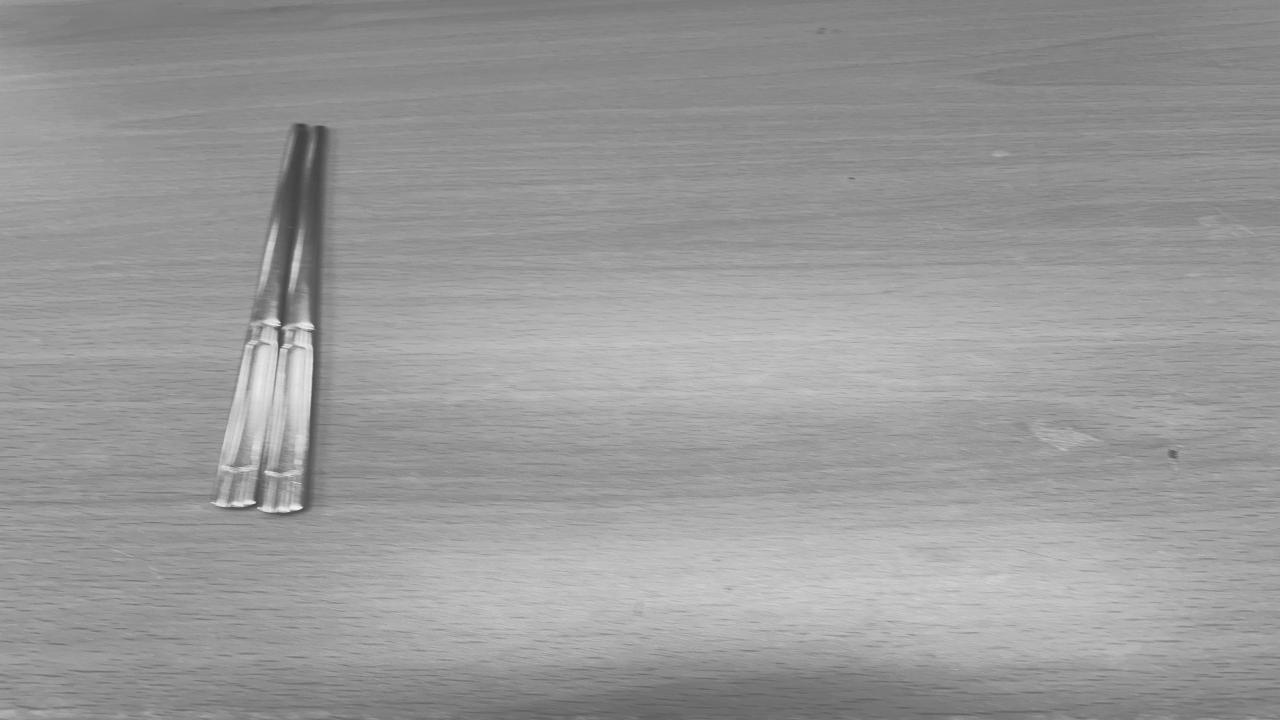chopstick: (212, 123, 330, 512)
